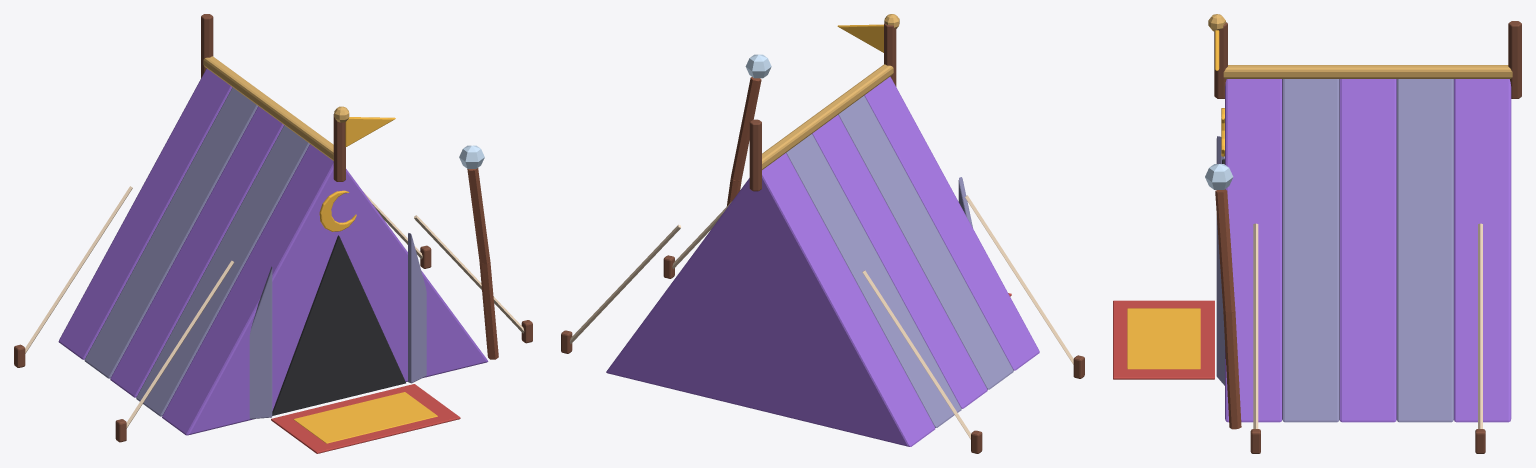
File: tent.glb
3 renders of one model, left to right at view 1: azimuth 30°, elevation 25°; view 2: azimuth 150°, elevation 25°; view 3: azimuth 270°, elevation 25°, orthographic. The views are drawn at different scales.
Visible parts, largest first — view 1: tent; view 2: tent; view 3: tent.
Part boxes in pixels (bbox=[...]): tent: bbox=[14, 14, 532, 453]; tent: bbox=[561, 14, 1084, 453]; tent: bbox=[1113, 14, 1521, 453].
Bounding box in the file's own units: 2.59 × 1.77 × 2.
1 material, 1 textured.
